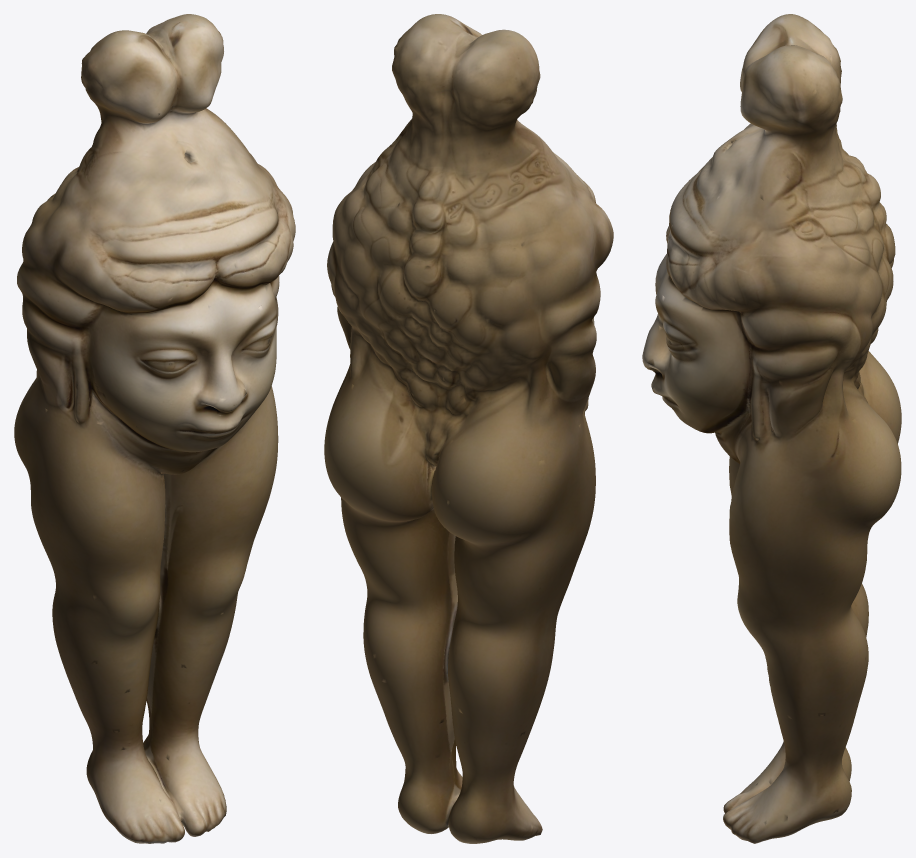
Rendered from ancient_baubo.glb.
3 views of the same model, side by side, from view 1: azimuth 30°, elevation 25°; view 2: azimuth 150°, elevation 25°; view 3: azimuth 270°, elevation 25° (orthographic). The views are drawn at different scales.
Size of the model in its own units: 0.6508 by 2 by 0.5951.
Materials: 1 (1 with a texture image).
